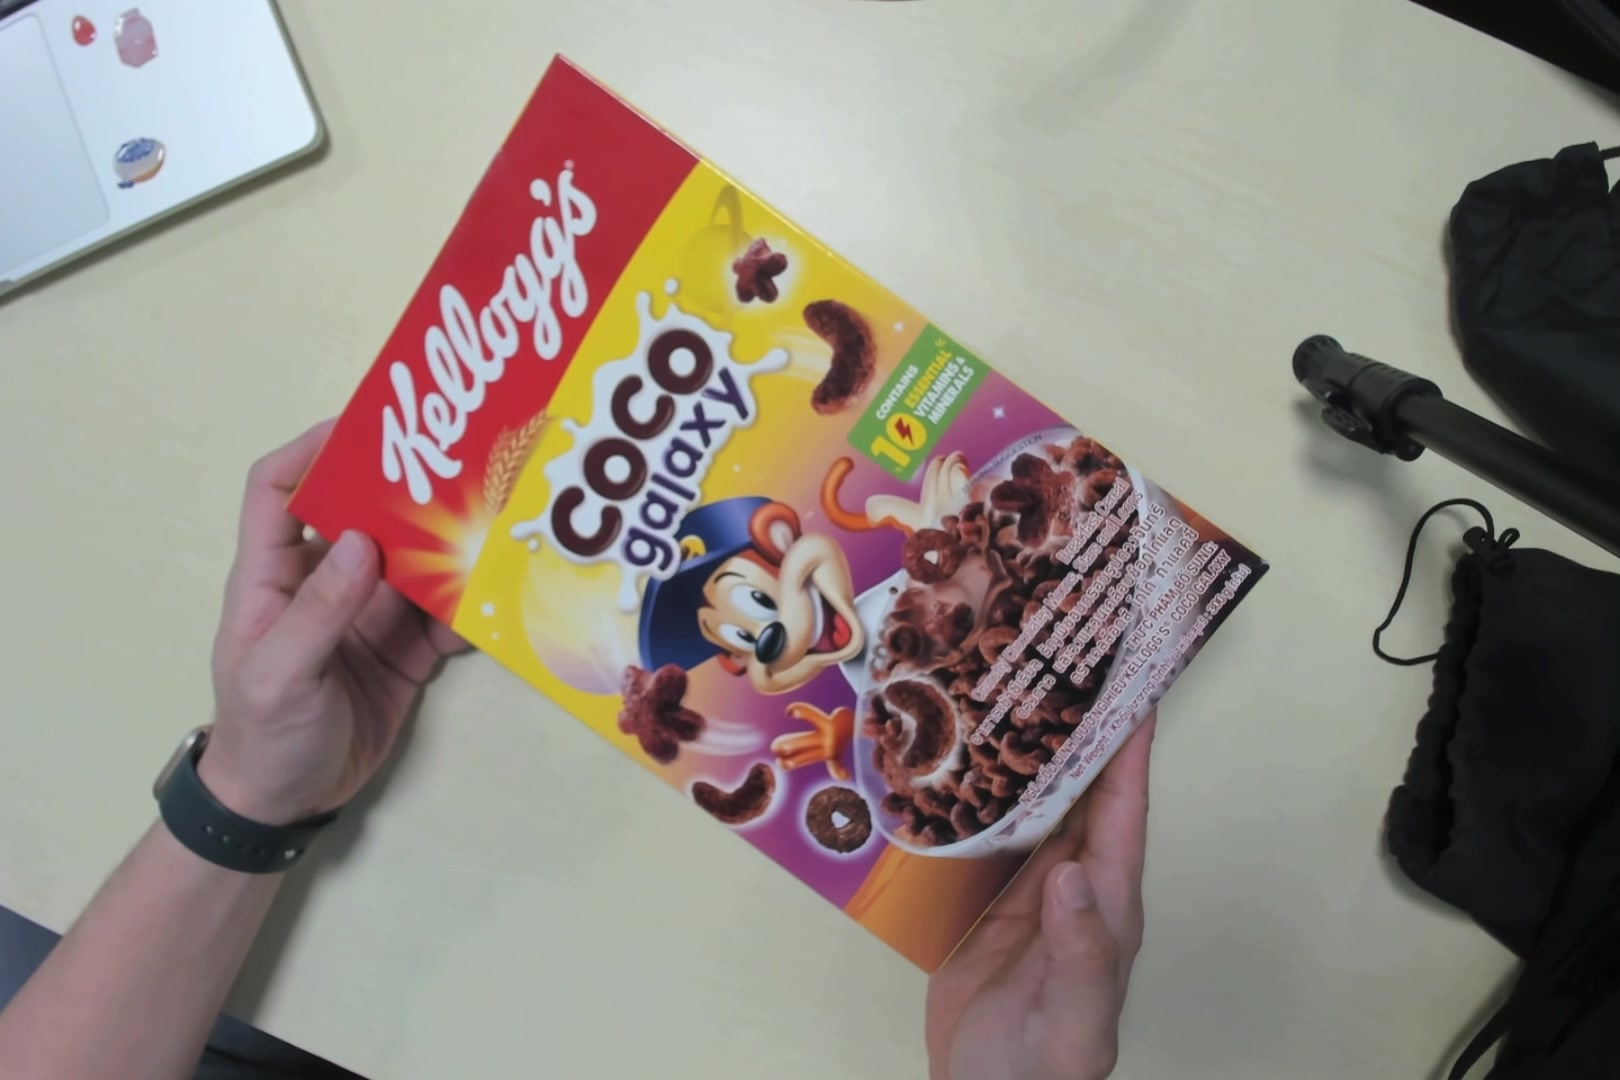BreakfastCereals_300-399g_Halal_NonHealthy: (288, 58, 1272, 973)
